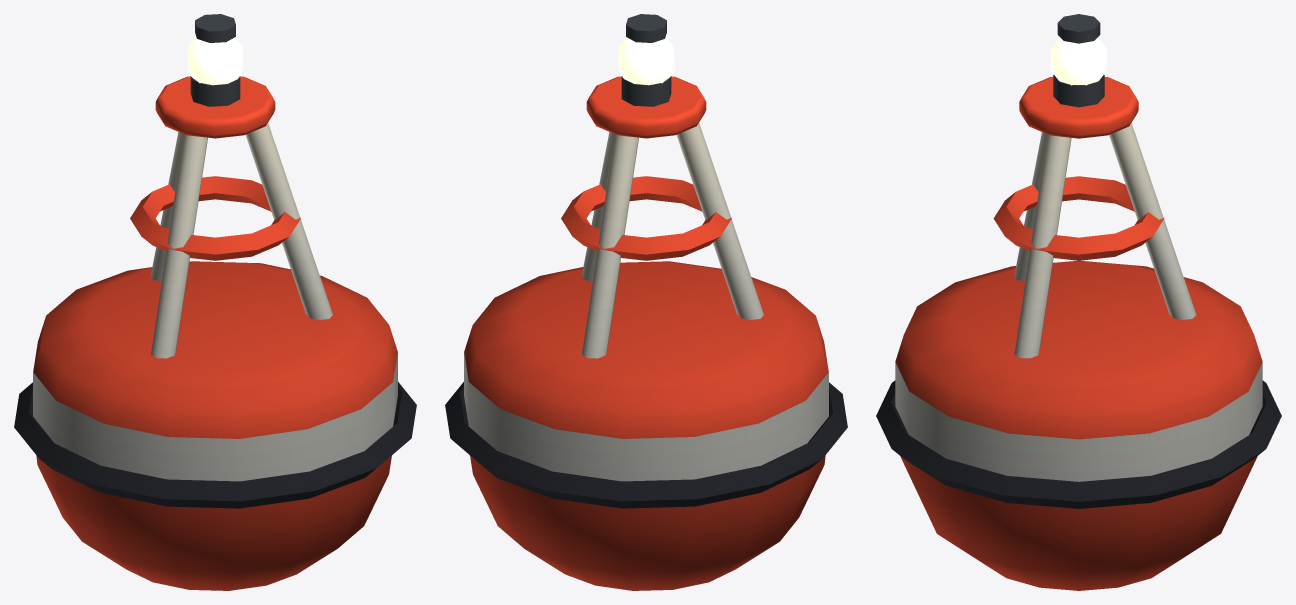
The model's file is buoy.glb.
3 renders of one model, left to right at view 1: azimuth 30°, elevation 25°; view 2: azimuth 150°, elevation 25°; view 3: azimuth 270°, elevation 25°, orthographic.
Parts seen in each view (by area): view 1: buoy Ember paint, buoy Warm white, buoy Rubber, buoy Lamp glow, buoy Gunmetal; view 2: buoy Ember paint, buoy Warm white, buoy Rubber, buoy Lamp glow, buoy Gunmetal; view 3: buoy Ember paint, buoy Warm white, buoy Rubber, buoy Lamp glow, buoy Gunmetal.
Part boxes in pixels (box(x1,y1,x2,y2)): buoy Ember paint: box(33, 76, 397, 590); buoy Warm white: box(33, 122, 397, 481); buoy Rubber: box(14, 382, 416, 508); buoy Lamp glow: box(187, 36, 243, 85); buoy Gunmetal: box(190, 14, 240, 106); buoy Ember paint: box(464, 76, 828, 590); buoy Warm white: box(464, 122, 828, 481); buoy Rubber: box(445, 382, 847, 508); buoy Lamp glow: box(618, 36, 674, 85); buoy Gunmetal: box(621, 14, 671, 106); buoy Ember paint: box(895, 77, 1262, 590); buoy Warm white: box(895, 123, 1262, 481); buoy Rubber: box(876, 380, 1281, 508); buoy Lamp glow: box(1050, 37, 1107, 85); buoy Gunmetal: box(1053, 14, 1104, 107).
Bounding box in the file's own units: 0.95 × 1.37 × 0.95.
Materials: 5 (4 with a texture image).
